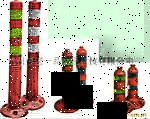bench: (59, 49, 75, 106)
